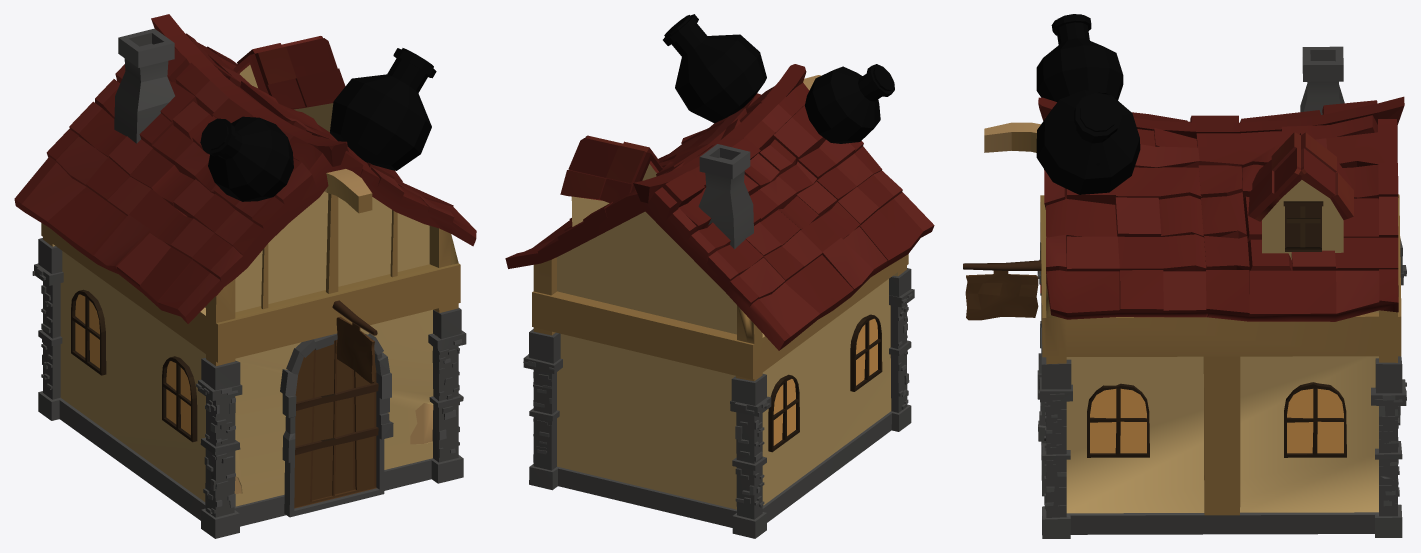
File: Magic_Shop.FBX
3 renders of one model, left to right at view 1: azimuth 30°, elevation 25°; view 2: azimuth 150°, elevation 25°; view 3: azimuth 270°, elevation 25°, orthographic. The views are drawn at different scales.
Parts seen in each view (by area): view 1: Box045; view 2: Box045; view 3: Box045.
Part boxes in pixels (x1=…): Box045: x1=14, y1=14, x2=476, y2=538; Box045: x1=505, y1=14, x2=934, y2=538; Box045: x1=963, y1=14, x2=1406, y2=538.
Size of the model in its own units: 656 by 789 by 841.
